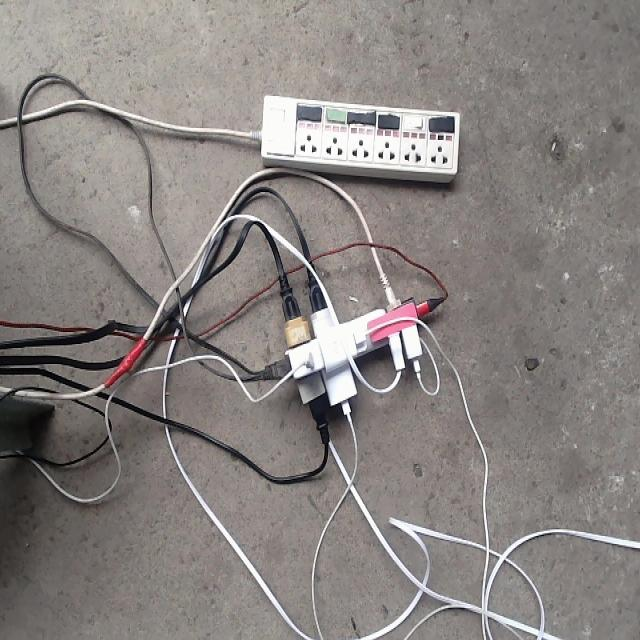-: (267, 264, 436, 433)
